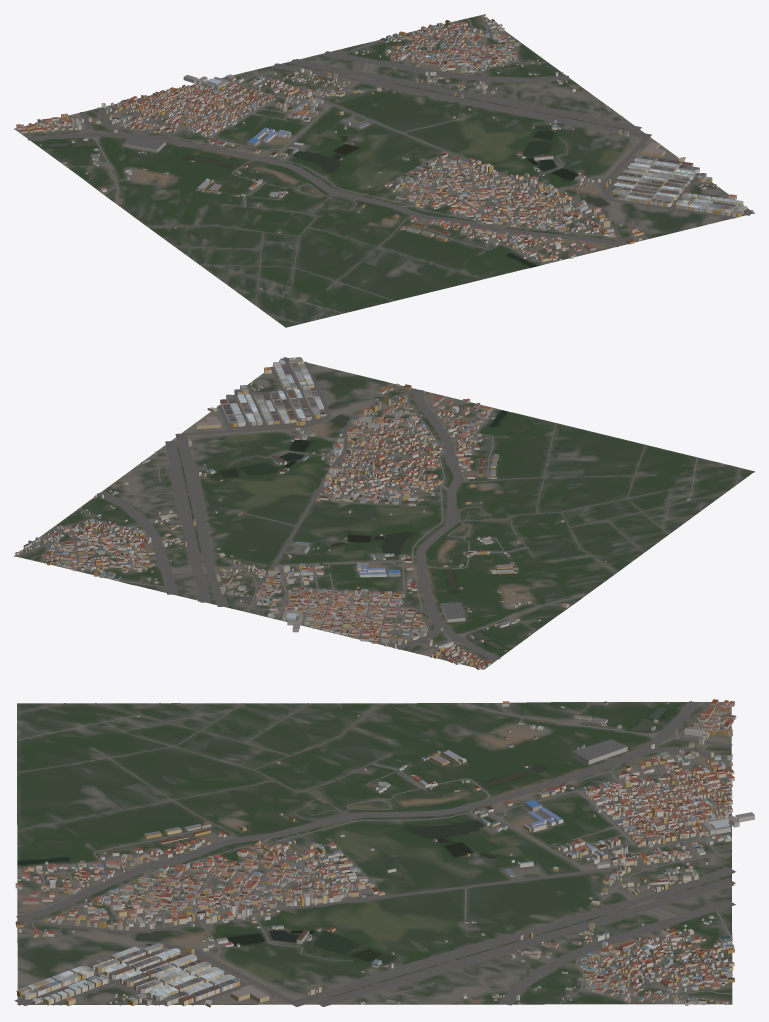
The picture shows the model from 3 angles, top to bottom: view 1: azimuth 30°, elevation 25°; view 2: azimuth 150°, elevation 25°; view 3: azimuth 270°, elevation 25°; orthographic projection. The views are drawn at different scales.
Visible parts, largest first — view 1: ground, buildings, roads, water; view 2: ground, buildings, roads, water; view 3: ground, buildings, roads, water.
Part boxes in pixels (x1,y1,x2,y2): ground: (14,15,754,327); buildings: (16,14,747,289); roads: (16,15,754,323); water: (48,41,609,267); ground: (14,358,754,669); buildings: (15,357,689,669); roads: (15,357,739,669); water: (124,410,508,649); ground: (17,702,732,1004); buildings: (15,699,754,1007); roads: (14,701,735,1006); water: (17,707,731,961).
Bounding box in the file's own units: 1417 × 26.26 × 1453.
